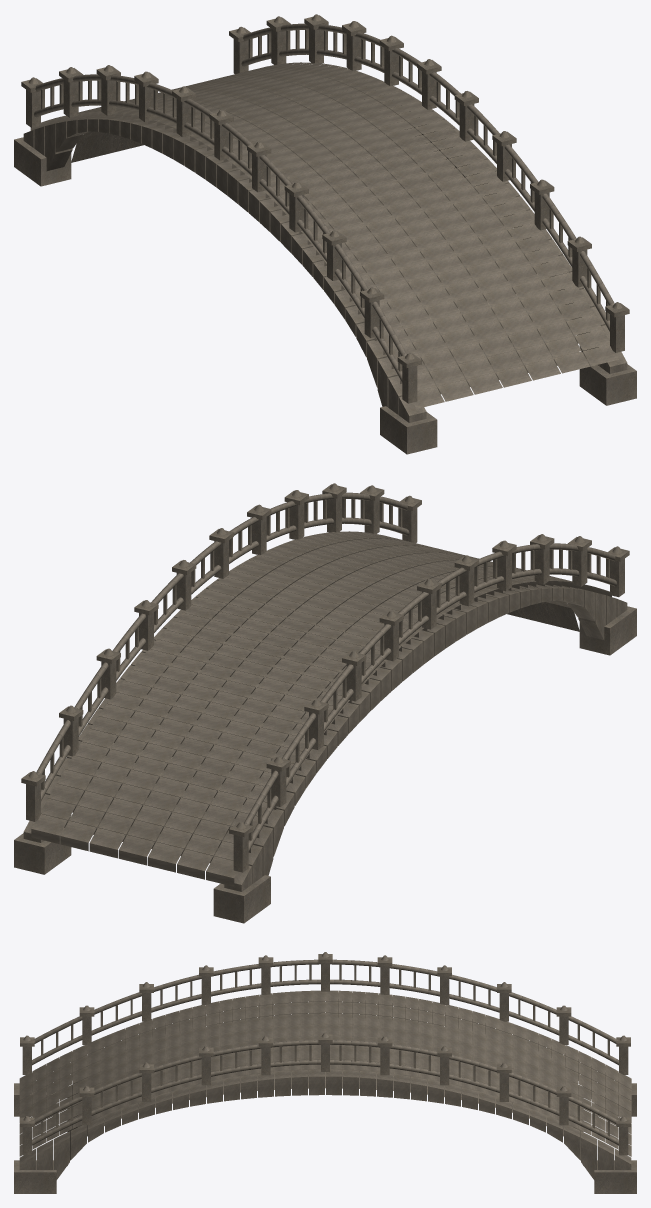
File: bridge.glb
The picture shows the model from 3 angles, top to bottom: view 1: azimuth 30°, elevation 25°; view 2: azimuth 150°, elevation 25°; view 3: azimuth 270°, elevation 25°; orthographic projection. The views are drawn at different scales.
Parts seen in each view (by area): view 1: StoneBridge_Carved_Gray_Stone_PBR; view 2: StoneBridge_Carved_Gray_Stone_PBR; view 3: StoneBridge_Carved_Gray_Stone_PBR.
Part boxes in pixels (box(x1,y1,x2,y2)): StoneBridge_Carved_Gray_Stone_PBR: box(14, 14, 636, 454); StoneBridge_Carved_Gray_Stone_PBR: box(14, 483, 636, 923); StoneBridge_Carved_Gray_Stone_PBR: box(14, 952, 636, 1193).
Size of the model in its own units: 7.91 by 6.49 by 23.4.
1 material, 1 textured.
